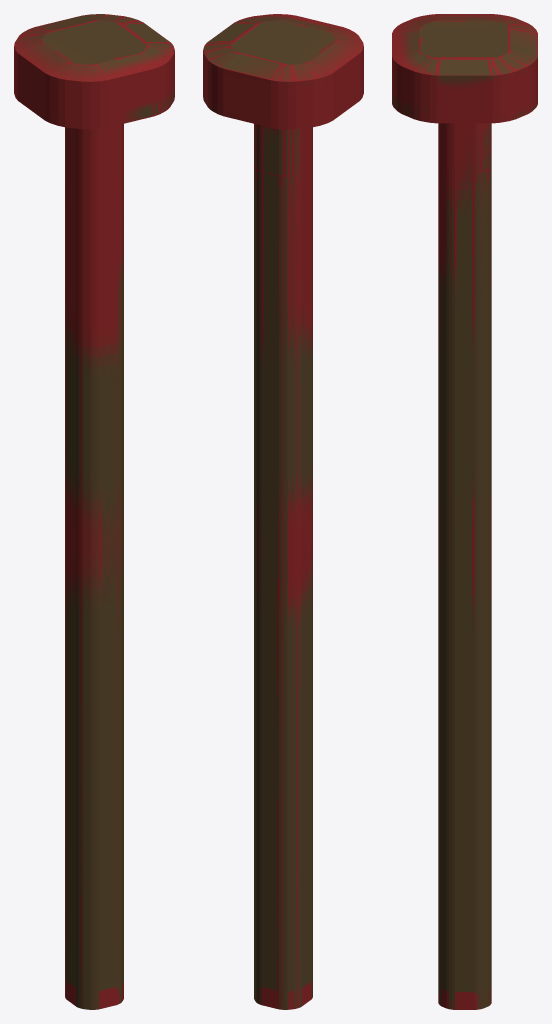
File: staff.glb
3 renders of one model, left to right at view 1: azimuth 30°, elevation 25°; view 2: azimuth 150°, elevation 25°; view 3: azimuth 270°, elevation 25°, orthographic.
Parts seen in each view (by area): view 1: Cube; view 2: Cube; view 3: Cube.
Boxes of the visible parts, left/top/right/bottom form: Cube: left=14, top=14, right=174, bottom=1009; Cube: left=203, top=14, right=363, bottom=1009; Cube: left=392, top=14, right=537, bottom=1009.
Size of the model in its own units: 5.45 by 39.57 by 5.45.
1 material, 1 textured.
